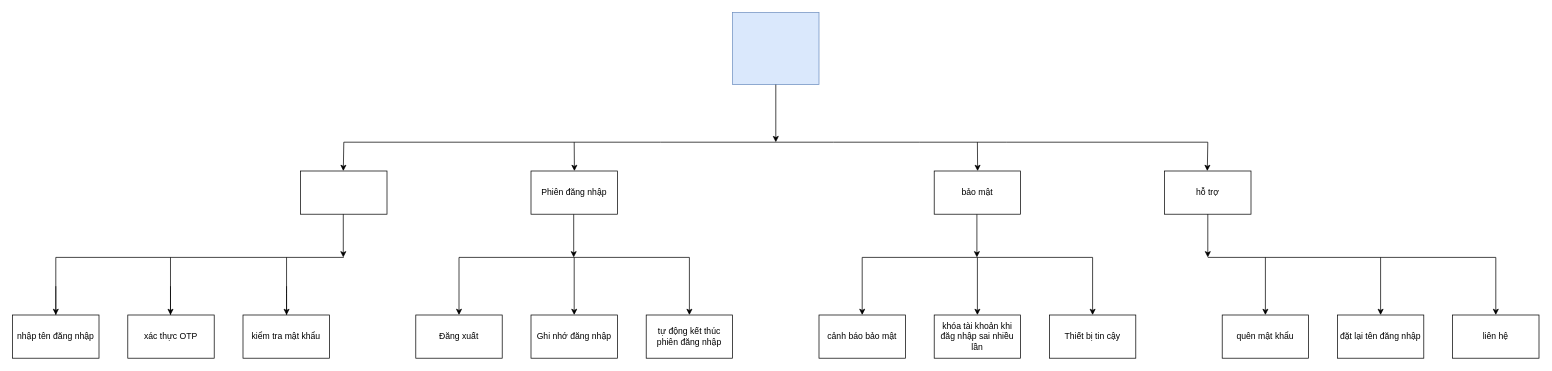
This 1552x371 diagram has some shape labels left out. Each missing label, with the centre of its shape:
"Xác thực" belongs at (x=343, y=192).
"Đăng nhập" belongs at (x=775, y=48).
